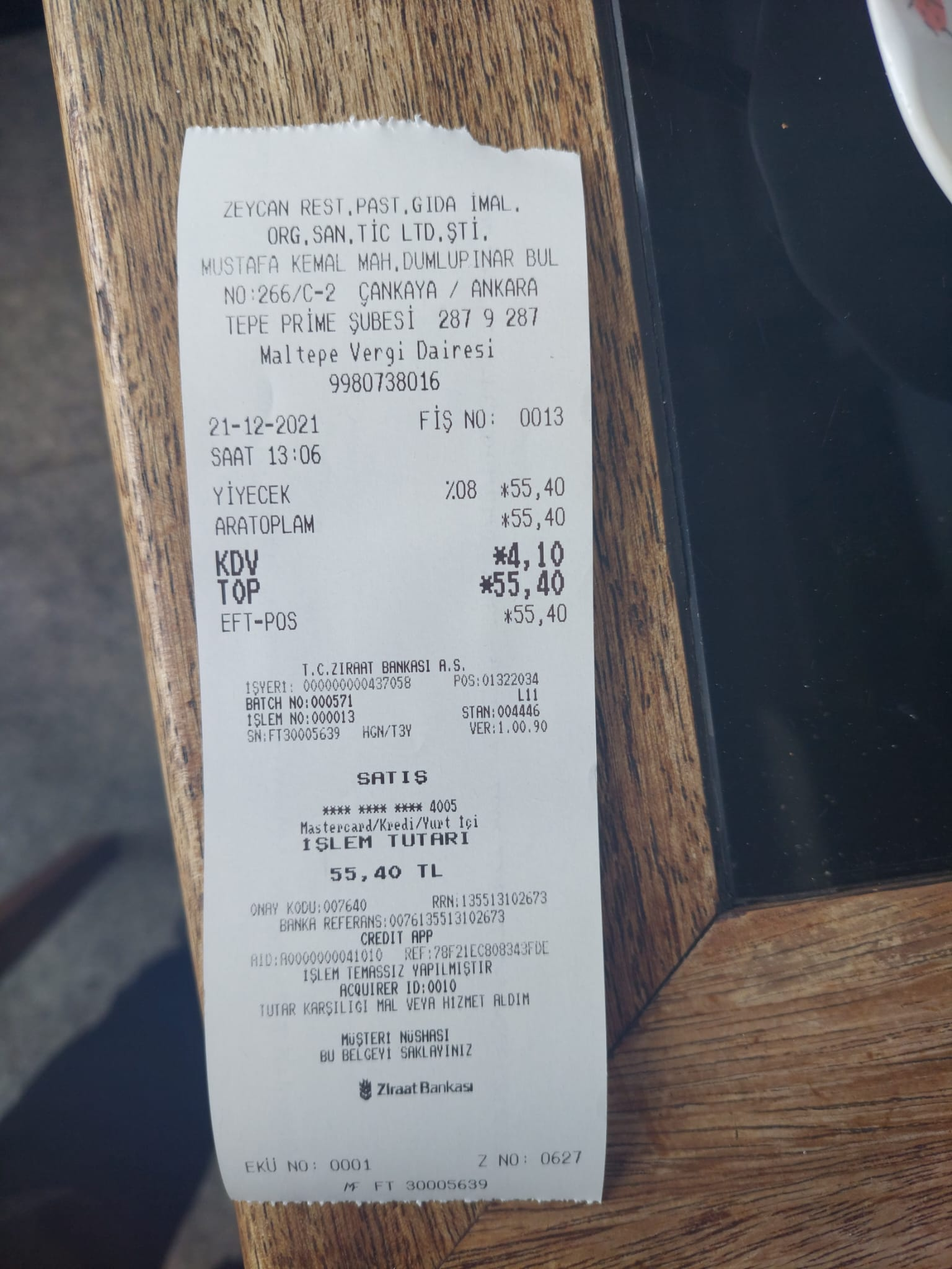date: (195, 407, 328, 439)
price: (489, 569, 574, 602)
workplace: (195, 183, 564, 308)
